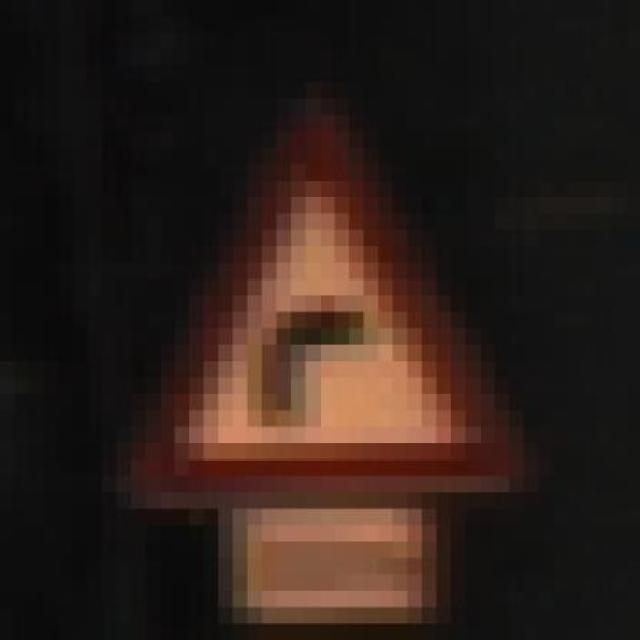Dangerous Rright Curve Ahead: (73, 82, 553, 509)
